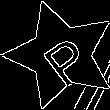P_NW: (29, 24, 92, 86)
